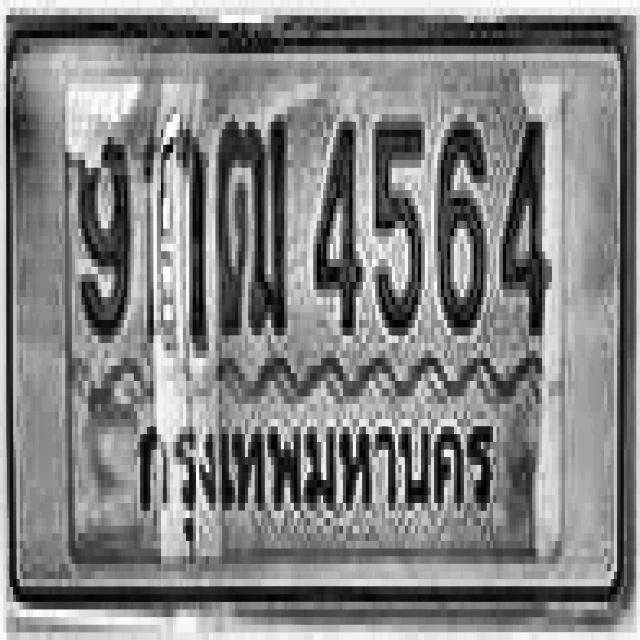license-plate: (9, 29, 630, 619)
